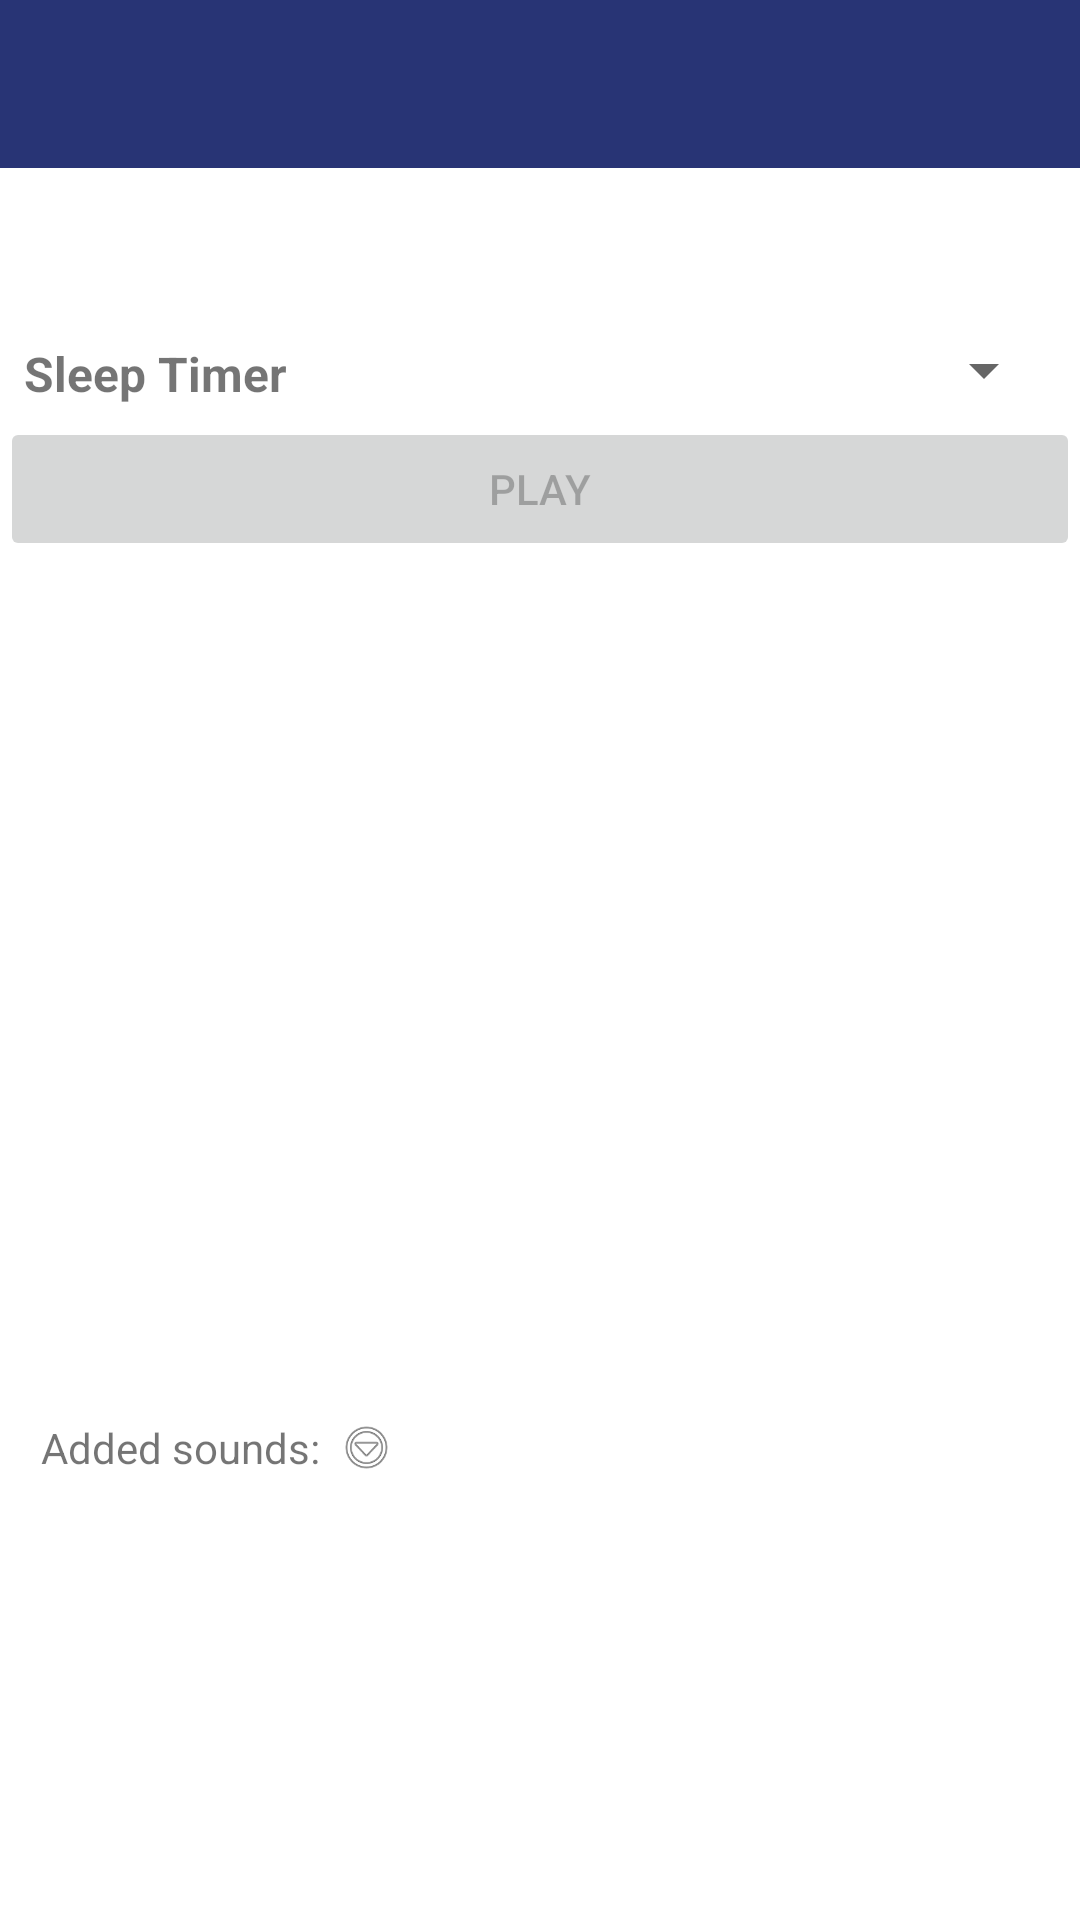

Named icons in this screenshot (1080×1920) and their bounding boxes, box=[x1, y1, x2, y2]:
more: box=[345, 1426, 388, 1469]
